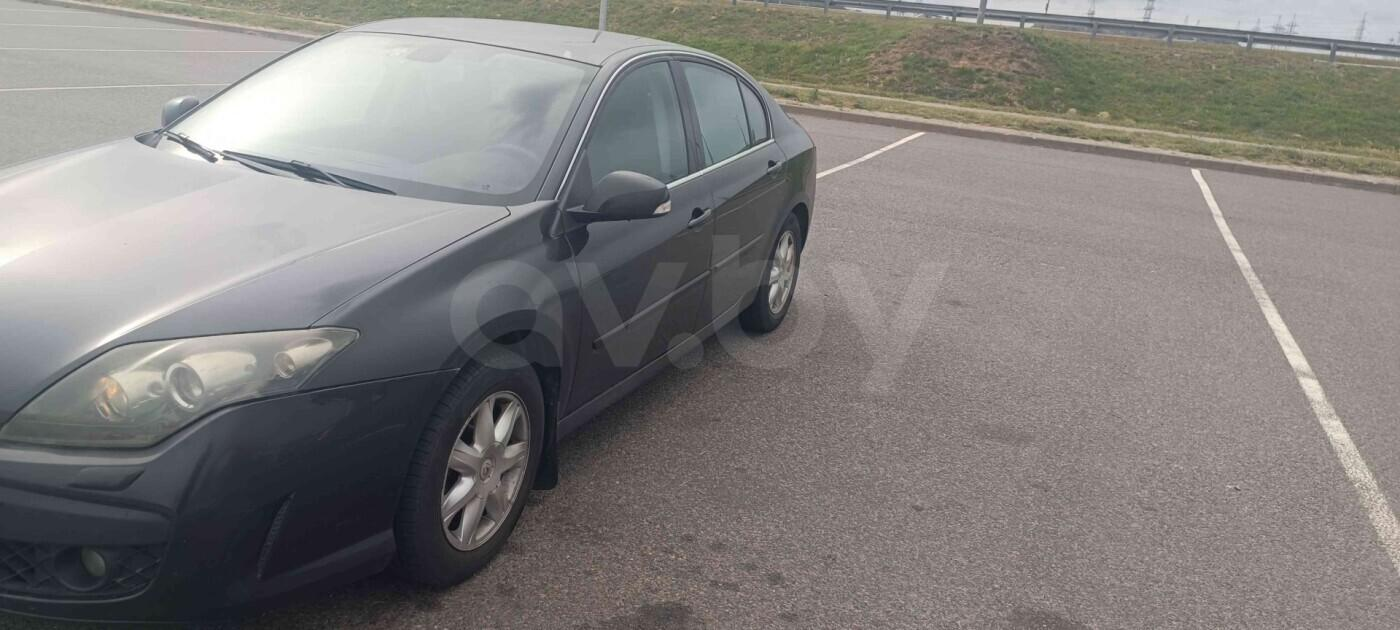Laguna_2007-2011: (0, 18, 816, 620)
